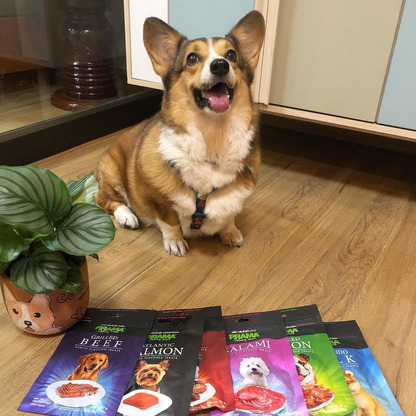Corgi: (118, 8, 271, 254)
